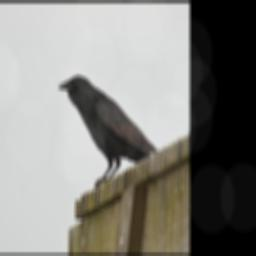Crow: (58, 74, 159, 190)
